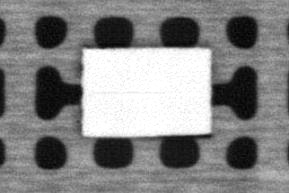DIE_CRACK: (91, 88, 165, 97)
